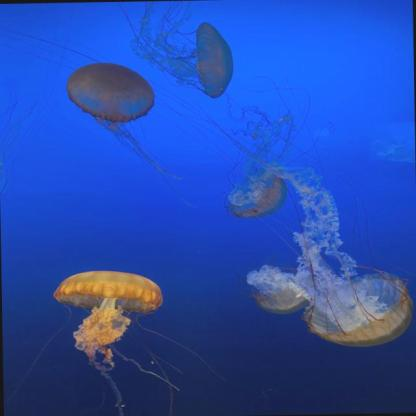jellyfish: (308, 272, 414, 349), (66, 60, 156, 124), (52, 268, 163, 314), (193, 20, 235, 100), (228, 171, 289, 222), (249, 278, 313, 314)
